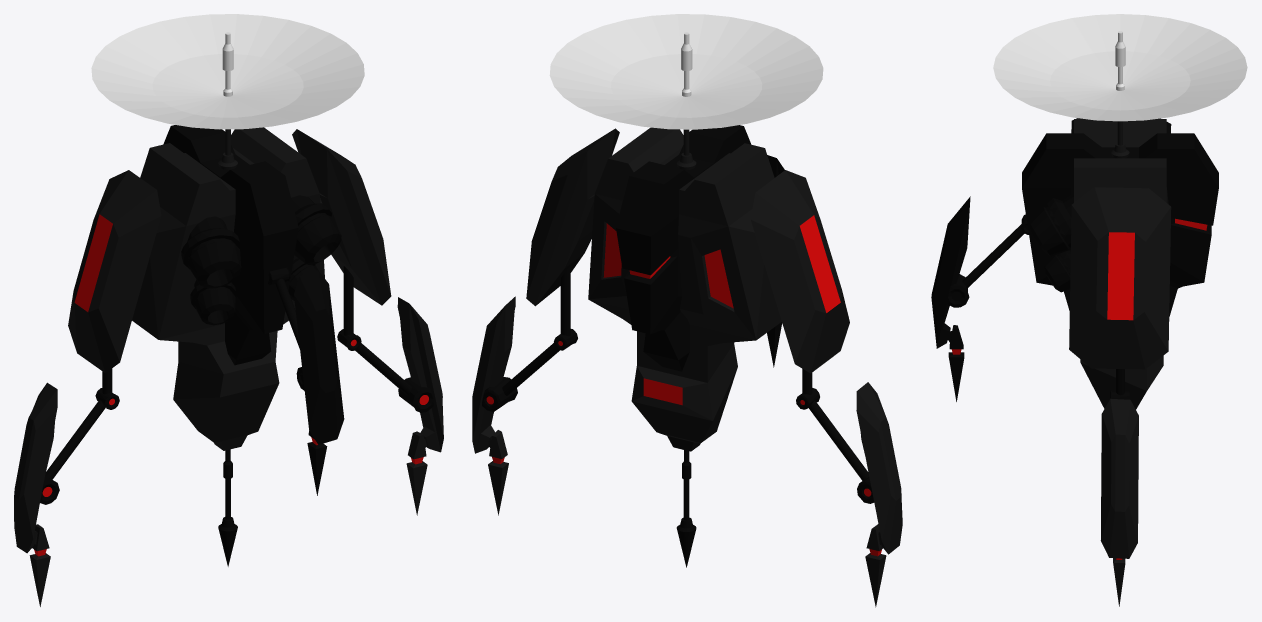
Rendered from Sonda.fbx.
3 views of the same model, side by side, from view 1: azimuth 30°, elevation 25°; view 2: azimuth 150°, elevation 25°; view 3: azimuth 270°, elevation 25° (orthographic). The views are drawn at different scales.
Visible parts, largest first — view 1: Cylinder; view 2: Cylinder; view 3: Cylinder.
Part boxes in pixels (left/top/right/bottom): Cylinder: left=14, top=14, right=443, bottom=606; Cylinder: left=472, top=14, right=902, bottom=607; Cylinder: left=931, top=14, right=1247, bottom=606.
Bounding box in the file's own units: 10.68 × 12.86 × 7.43.
